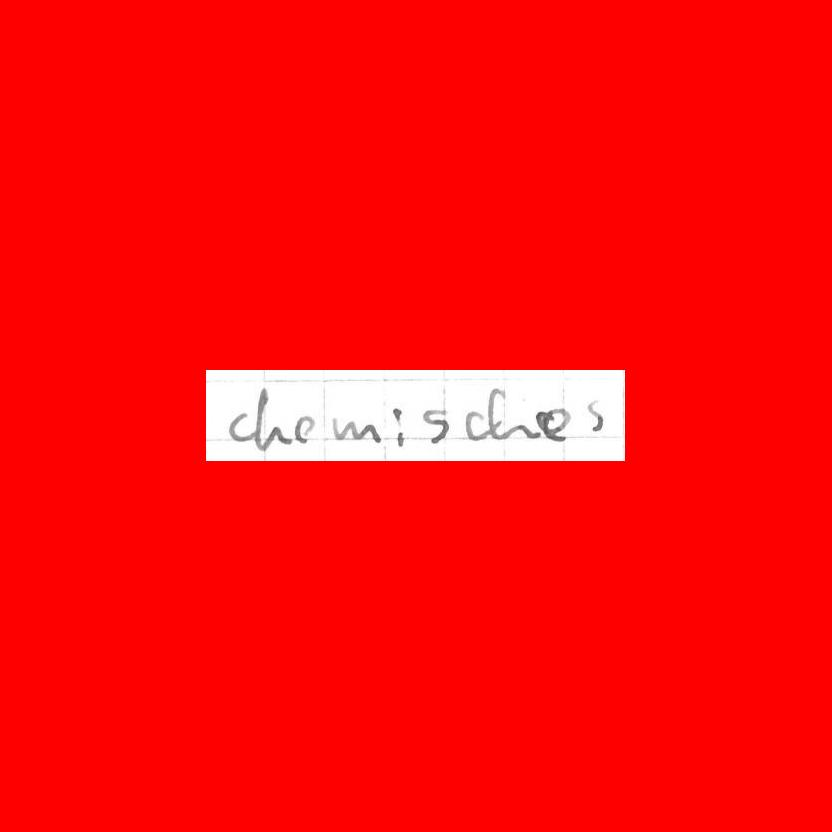Char: (486, 384, 534, 443), (253, 384, 291, 453), (330, 415, 383, 445), (536, 406, 573, 442), (419, 406, 452, 446), (225, 411, 253, 445), (389, 403, 408, 449), (585, 398, 607, 435), (463, 408, 487, 441), (294, 412, 315, 444)
